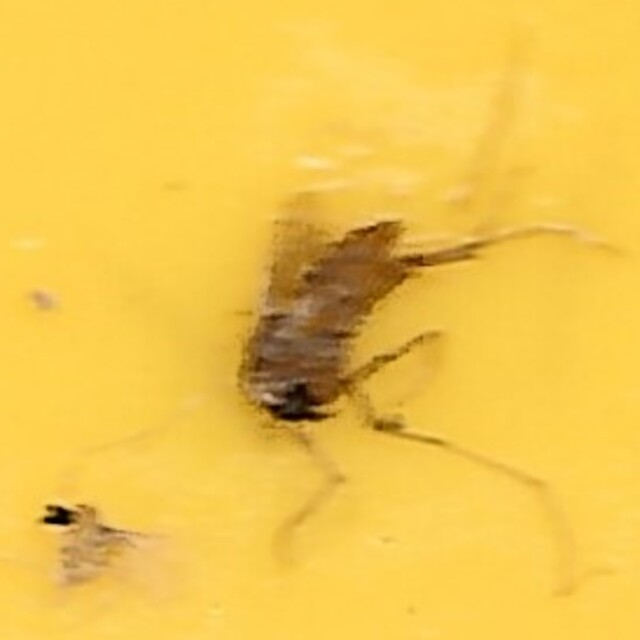Nematocera: (234, 211, 406, 429)
